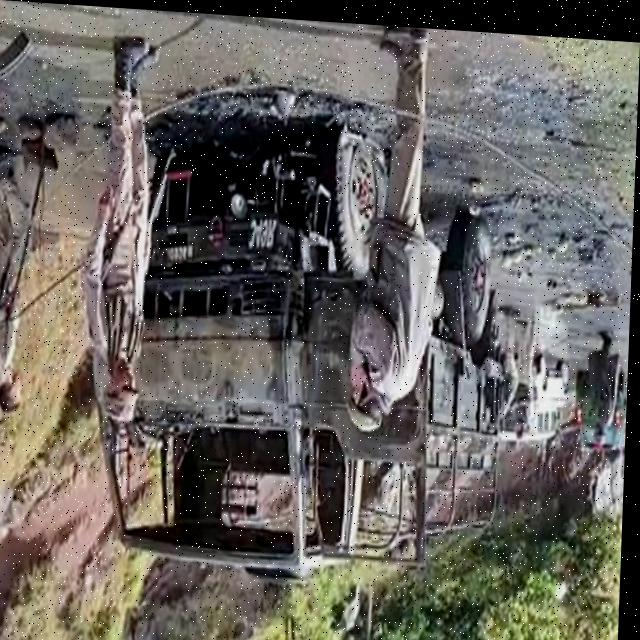unit number: (248, 209, 280, 251)
